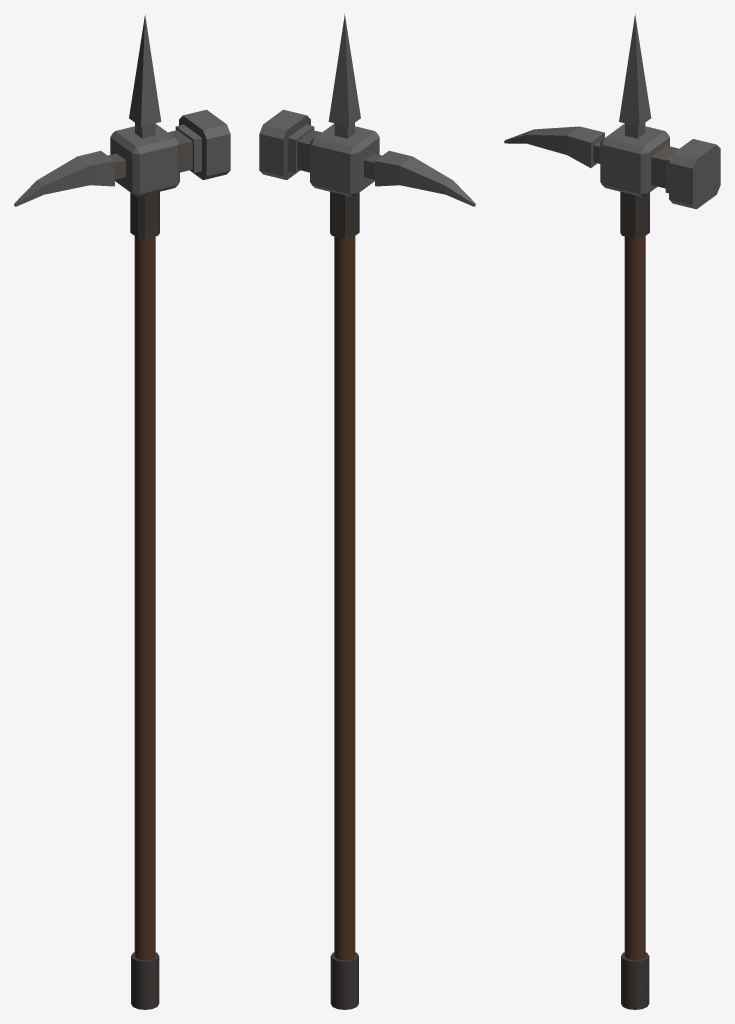
The model's file is Bec de Corbin.fbx.
3 renders of one model, left to right at view 1: azimuth 30°, elevation 25°; view 2: azimuth 150°, elevation 25°; view 3: azimuth 330°, elevation 25°, orthographic.
Visible parts, largest first — view 1: Bec de Corbin_Baked; view 2: Bec de Corbin_Baked; view 3: Bec de Corbin_Baked.
Part boxes in pixels (left/top/right/bottom): Bec de Corbin_Baked: left=14, top=14, right=230, bottom=1009; Bec de Corbin_Baked: left=259, top=14, right=475, bottom=1009; Bec de Corbin_Baked: left=504, top=14, right=720, bottom=1009.
Size of the model in its own units: 36.97 by 173 by 8.76.
Materials: 1 (1 with a texture image).
